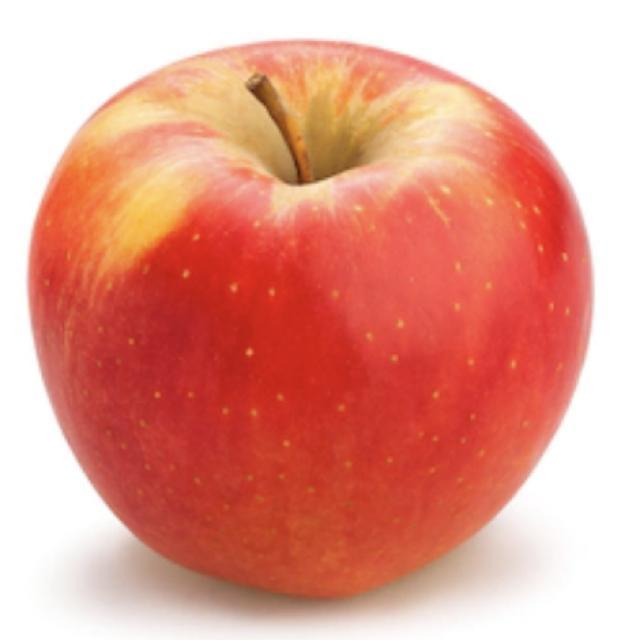Fresh Apple: (53, 50, 585, 597)
